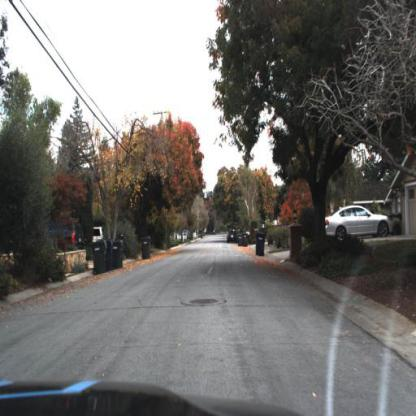car: (323, 203, 393, 245), (44, 214, 87, 257), (226, 225, 242, 250), (92, 228, 107, 244)
